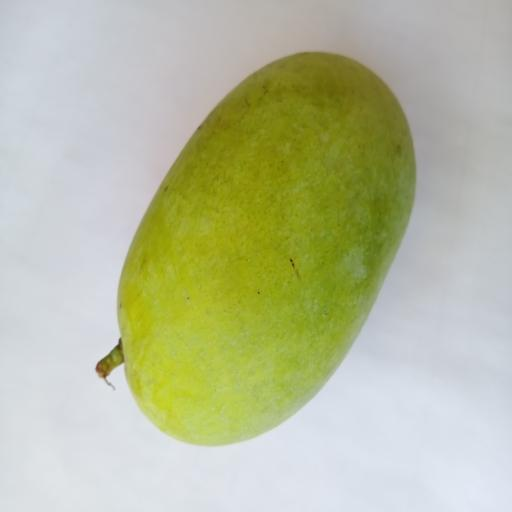mango-unripe: (83, 28, 419, 477)
